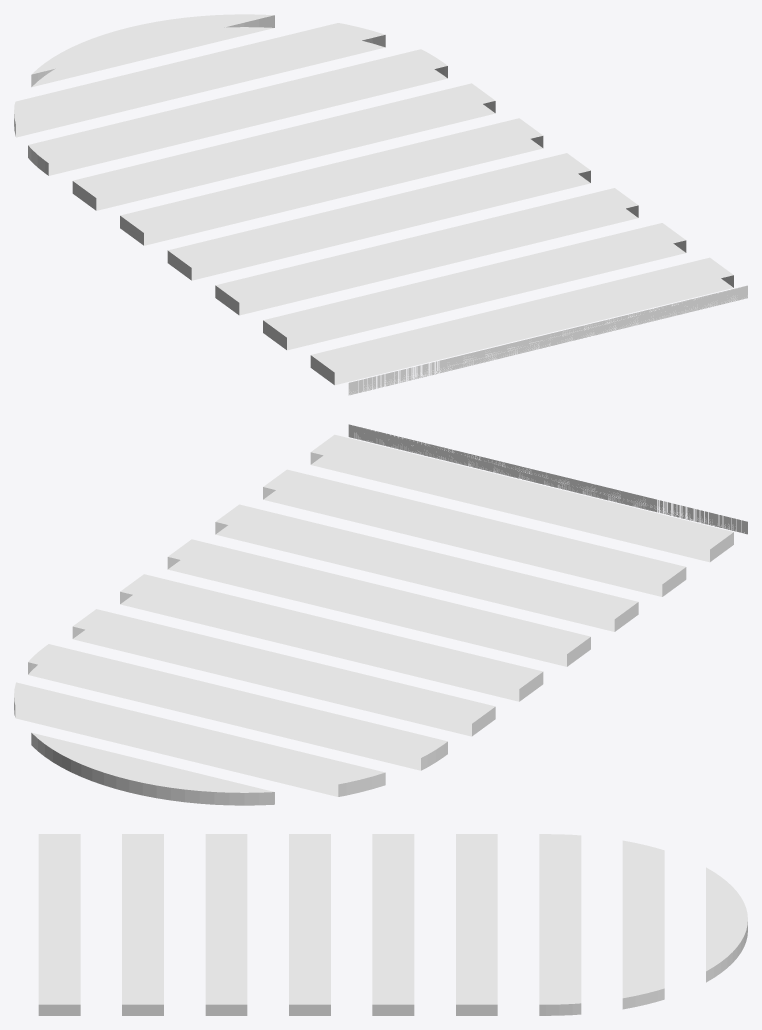
The model's file is door2.fbx.
3 renders of one model, top to bottom at view 1: azimuth 30°, elevation 25°; view 2: azimuth 150°, elevation 25°; view 3: azimuth 270°, elevation 25°, orthographic. The views are drawn at different scales.
Parts seen in each view (by area): view 1: Curve; view 2: Curve; view 3: Curve.
Part boxes in pixels (x1,y1,x2,y2): Curve: (14,14,747,395); Curve: (14,424,747,805); Curve: (38,834,747,1015).
Size of the model in its own units: 15.52 by 0.4735 by 28.22.
